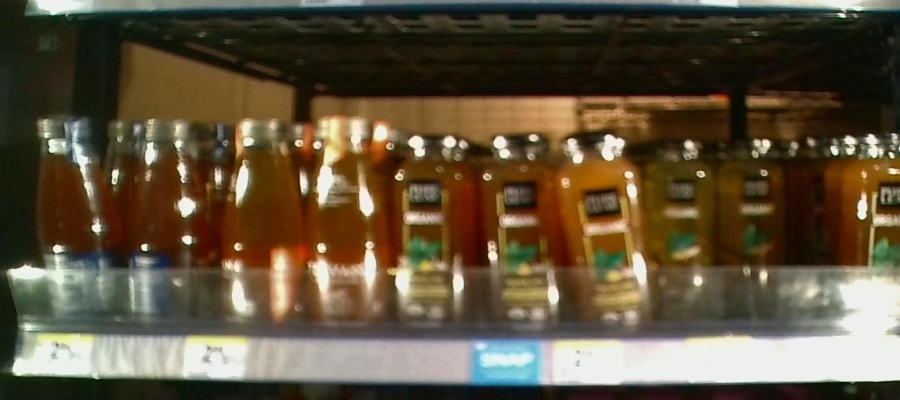bottle: (125, 113, 214, 334), (32, 107, 119, 332), (393, 128, 483, 336), (304, 113, 387, 336), (561, 130, 650, 334), (217, 113, 299, 331), (487, 131, 558, 338), (718, 138, 791, 326), (653, 143, 715, 330), (848, 130, 900, 338)
